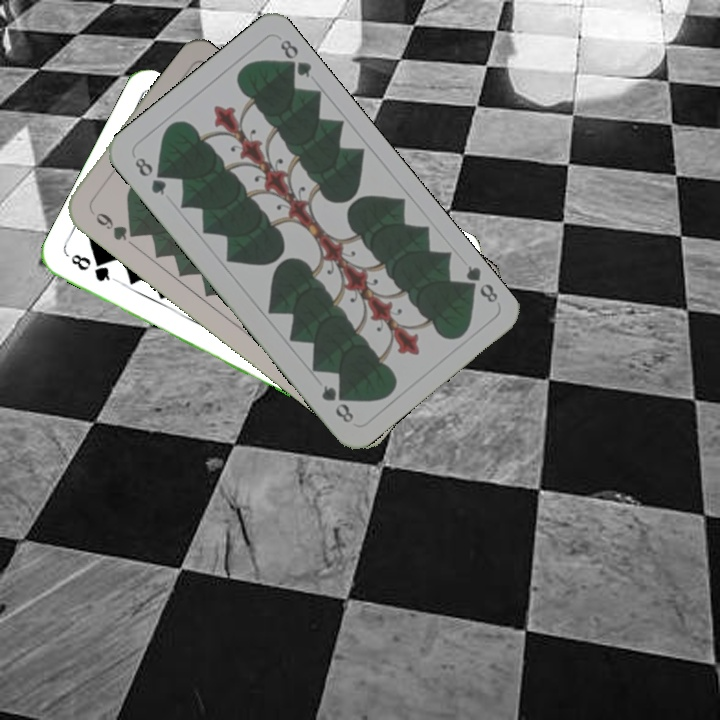G8: (457, 261, 501, 306), (66, 250, 119, 285), (130, 153, 170, 198)
G9: (86, 205, 140, 244)
